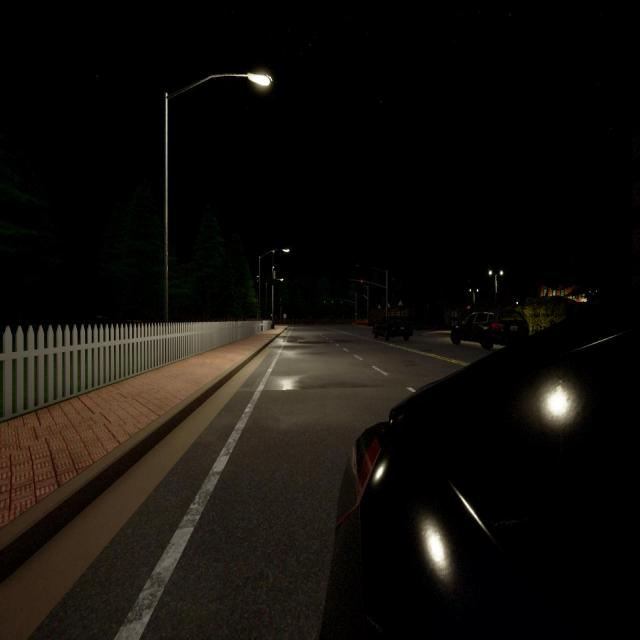Traffic_Signs: (283, 314, 287, 320)
Vehicle: (321, 290, 640, 640), (451, 310, 529, 350), (372, 316, 414, 341)
traffic_light: (355, 310, 357, 316), (324, 298, 326, 303), (332, 298, 334, 303), (340, 299, 342, 304), (361, 280, 363, 282)
